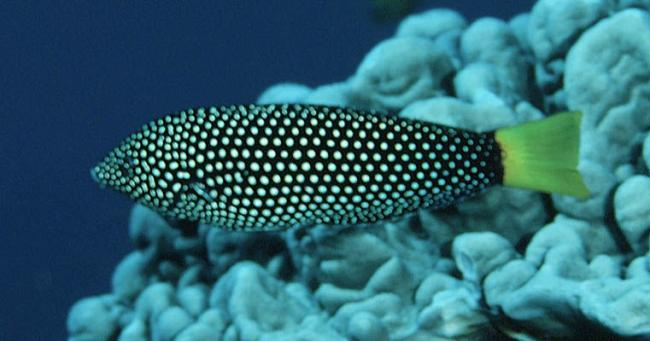fish: (91, 103, 592, 235)
